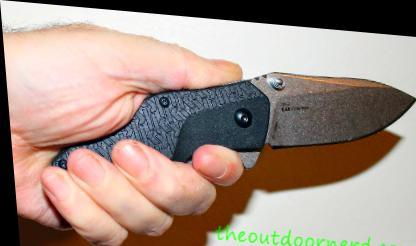knife: (80, 35, 415, 228)
